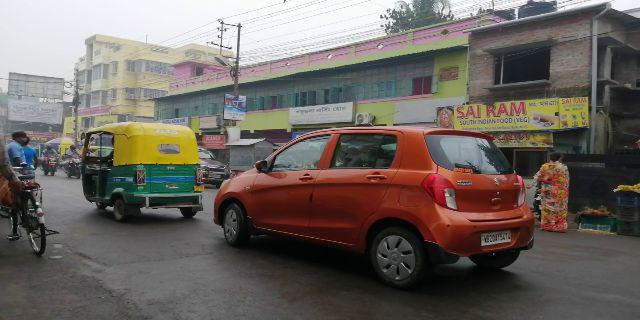Autorickshaw: (75, 122, 209, 222)
Car: (215, 128, 540, 278)
Cycle: (7, 161, 54, 254)
